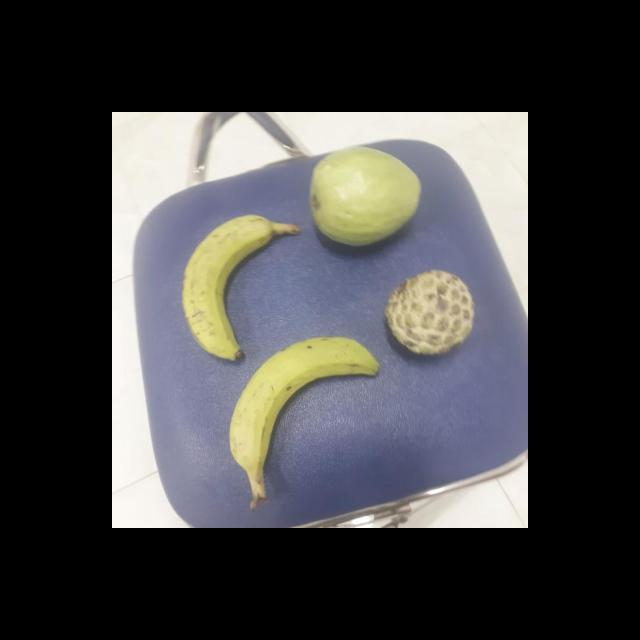Sakya fruit: (386, 270, 480, 356)
banana: (232, 338, 386, 490), (182, 213, 306, 361)
guava: (308, 143, 425, 250)
